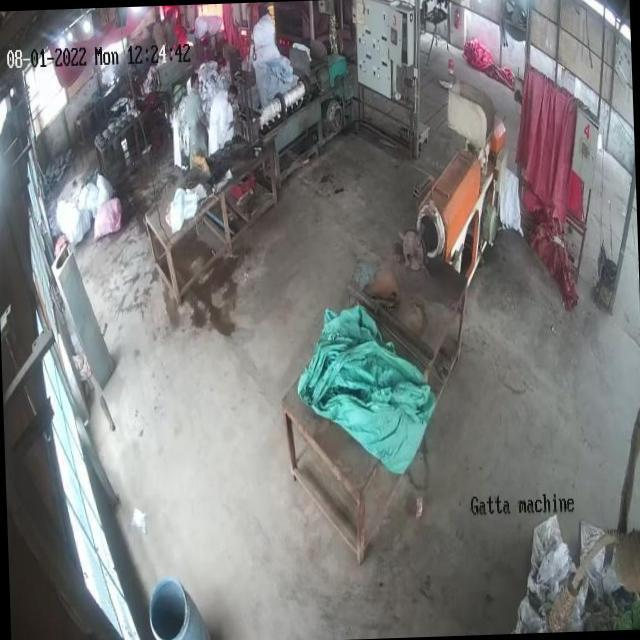person: (208, 82, 241, 148), (188, 70, 209, 144)
